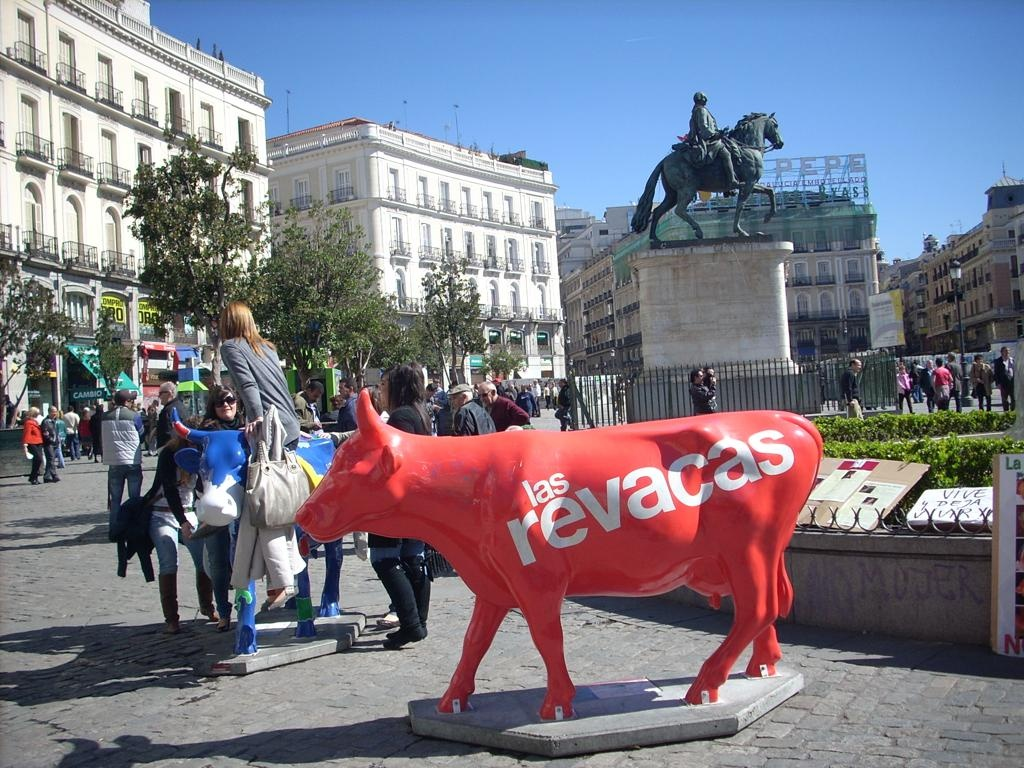human_face: (379, 377, 399, 406), (216, 392, 236, 416), (156, 386, 168, 404), (339, 381, 351, 397), (452, 392, 464, 406), (480, 390, 492, 404), (308, 391, 320, 403), (694, 373, 704, 385), (127, 394, 133, 408), (48, 406, 56, 416), (852, 362, 862, 370), (700, 92, 706, 104), (183, 396, 189, 404), (434, 378, 440, 386), (707, 368, 713, 376), (926, 360, 934, 366), (1002, 349, 1008, 357), (520, 385, 526, 391), (559, 381, 565, 387), (978, 356, 984, 362), (510, 384, 514, 390), (900, 369, 904, 375)
